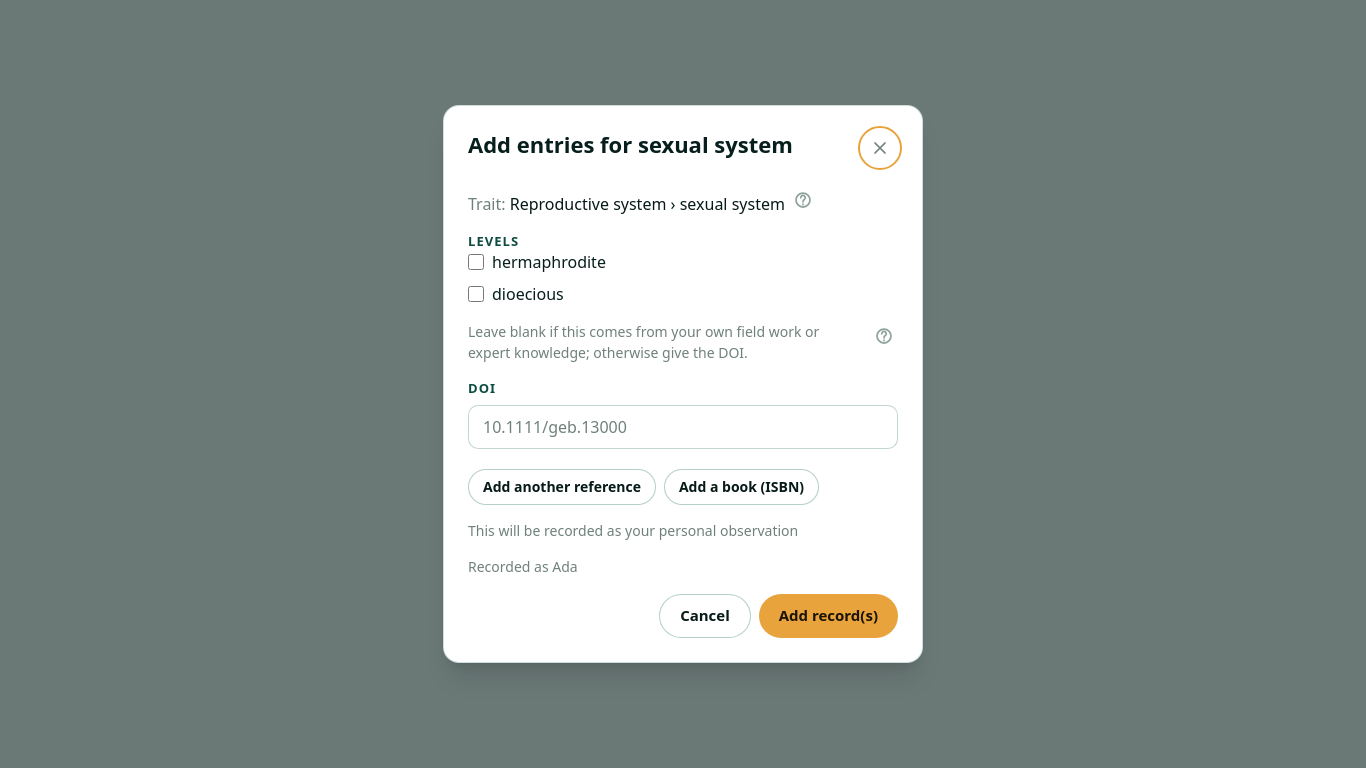
Test: RFC-70 R1 AddEntriesDialog submission › RFC-13 R6 asks for at least one level, and clears the message once one is ticked
The image size is (1366, 768).
Click the button "Add record(s)" at (828, 616), box 759,594 -> 898,638
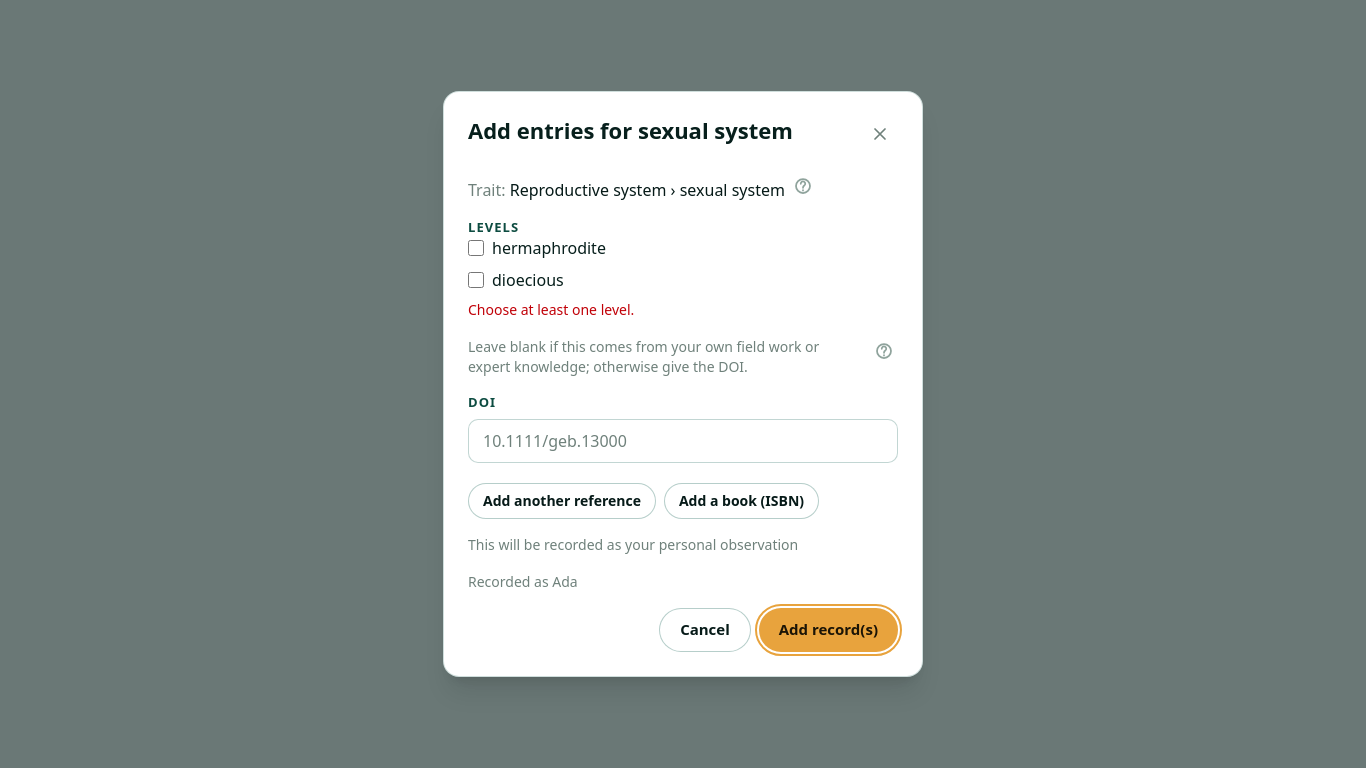
expect the text "Choose at least one level." is shown: met, box 468,300 -> 634,319
Click the checkbox labelled "dioecious" at (476, 280), box 468,272 -> 484,288
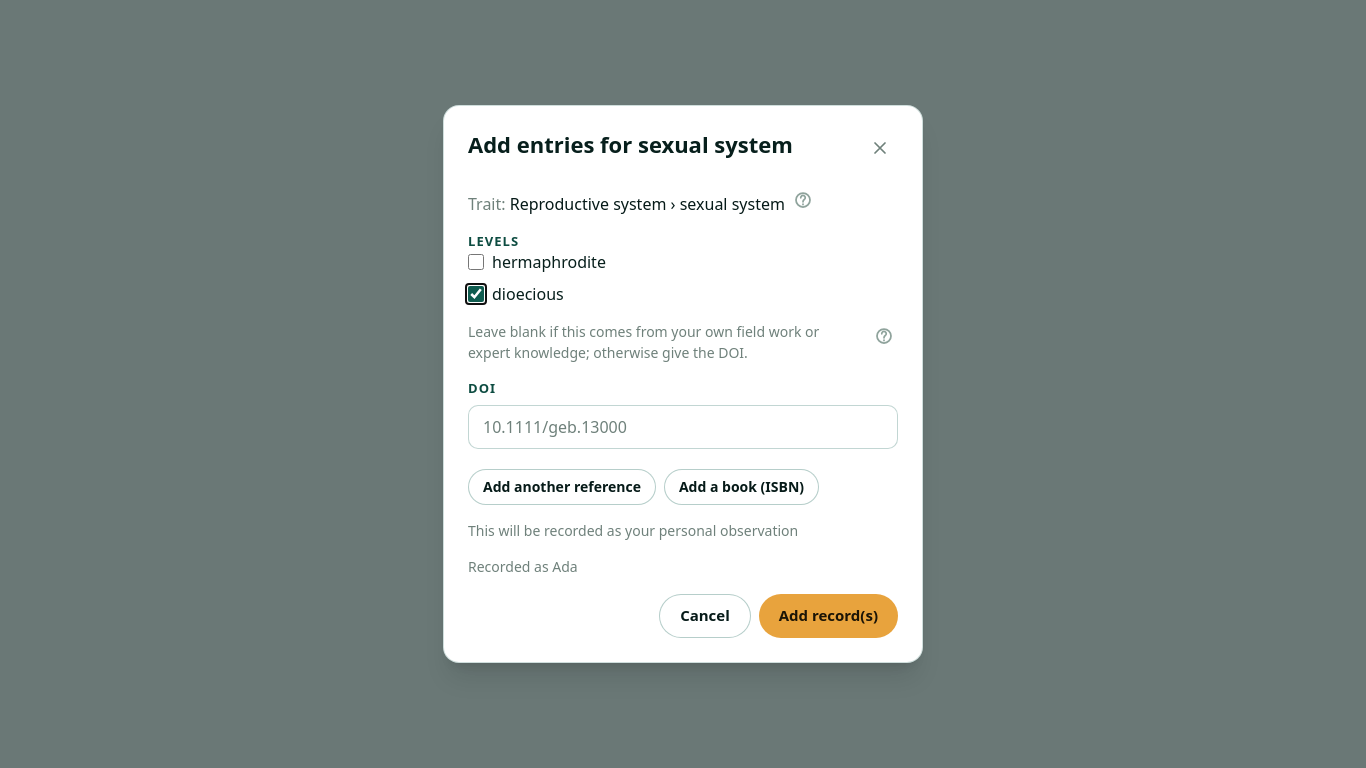
expect the text "Choose at least one level." is gone: met
